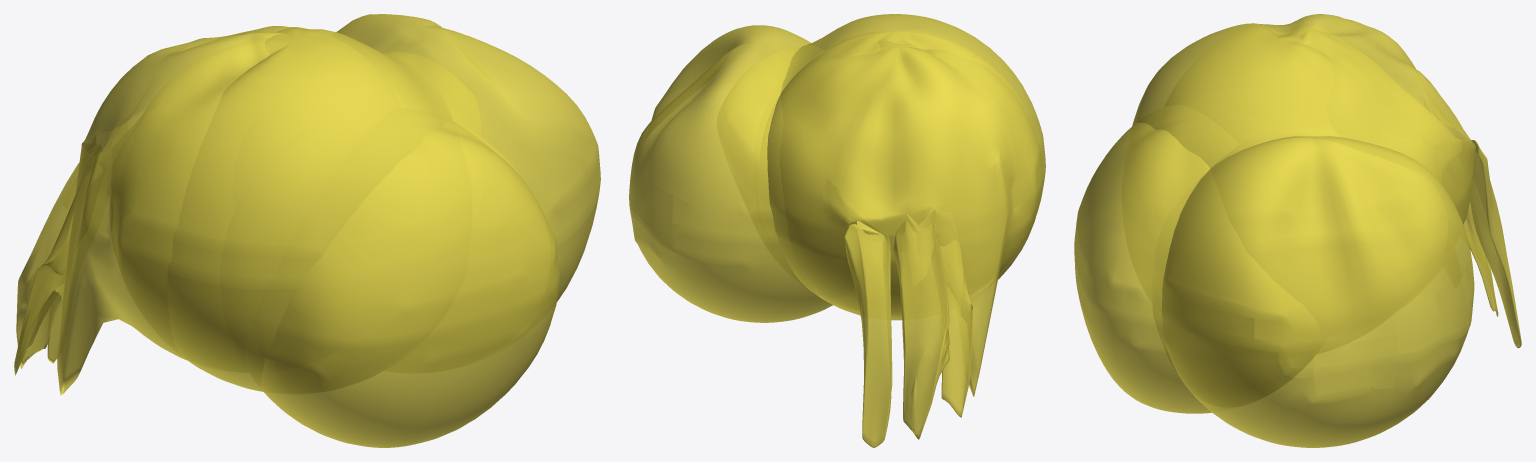
Rendered from hair.fbx.
The picture shows the model from 3 angles, left to right: view 1: azimuth 30°, elevation 25°; view 2: azimuth 150°, elevation 25°; view 3: azimuth 270°, elevation 25°; orthographic projection. The views are drawn at different scales.
Visible parts, largest first — view 1: Cube.002; view 2: Cube.002; view 3: Cube.002.
Boxes of the visible parts, x1,y1,x2,y2 form: Cube.002: (14, 14, 600, 447); Cube.002: (629, 14, 1045, 447); Cube.002: (1074, 14, 1521, 447).
Size of the model in its own units: 199 by 156 by 177.
